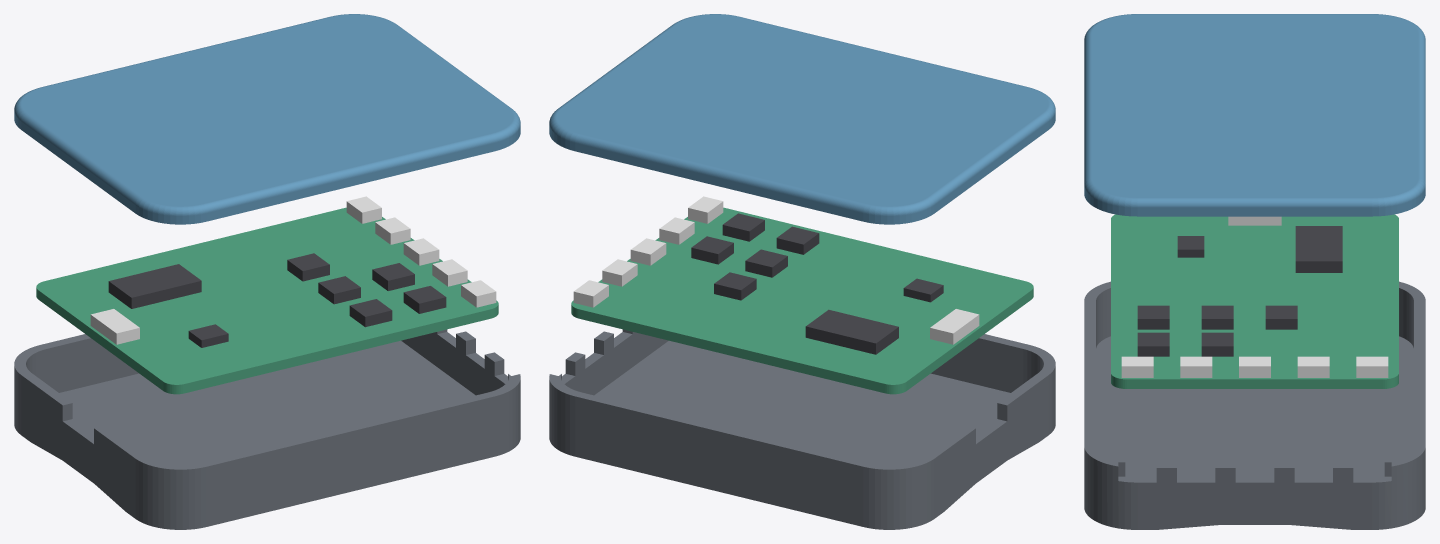
The model's file is hand_exploded.glb.
3 renders of one model, left to right at view 1: azimuth 30°, elevation 25°; view 2: azimuth 150°, elevation 25°; view 3: azimuth 270°, elevation 25°, orthographic. The views are drawn at different scales.
Visible parts, largest first — view 1: 015_lid, 000_base, 001_pcb, 002_chip, 014_conn, 003_chip, 006_chip, 005_chip, 007_chip, 004_chip, 011_conn, 010_conn (+4 smaller); view 2: 015_lid, 000_base, 001_pcb, 002_chip, 014_conn, 003_chip, 007_chip, 004_chip, 005_chip, 006_chip, 011_conn, 009_conn (+4 smaller); view 3: 015_lid, 000_base, 001_pcb, 002_chip, 003_chip, 004_chip, 005_chip, 006_chip, 007_chip, 009_conn, 010_conn, 012_conn (+4 smaller).
Part boxes in pixels (x1,y1,x2,y2): 015_lid: [14, 14, 520, 224]; 000_base: [14, 329, 520, 529]; 001_pcb: [36, 207, 498, 394]; 002_chip: [108, 264, 201, 308]; 014_conn: [90, 309, 139, 344]; 003_chip: [349, 299, 392, 327]; 006_chip: [403, 286, 446, 313]; 005_chip: [287, 253, 329, 281]; 007_chip: [372, 263, 414, 290]; 004_chip: [318, 276, 360, 304]; 011_conn: [403, 238, 439, 265]; 010_conn: [432, 259, 467, 286]; 015_lid: [549, 14, 1055, 224]; 000_base: [549, 329, 1055, 529]; 001_pcb: [571, 207, 1033, 394]; 002_chip: [805, 309, 898, 354]; 014_conn: [930, 309, 979, 344]; 003_chip: [776, 226, 819, 254]; 007_chip: [691, 236, 733, 264]; 004_chip: [745, 249, 787, 277]; 005_chip: [714, 272, 756, 300]; 006_chip: [722, 213, 764, 241]; 011_conn: [630, 238, 666, 265]; 009_conn: [688, 196, 723, 223]; 015_lid: [1084, 14, 1425, 216]; 000_base: [1084, 281, 1425, 529]; 001_pcb: [1111, 214, 1398, 388]; 002_chip: [1295, 226, 1342, 272]; 003_chip: [1137, 305, 1169, 329]; 004_chip: [1201, 305, 1233, 329]; 005_chip: [1265, 305, 1297, 329]; 006_chip: [1137, 332, 1169, 356]; 007_chip: [1201, 332, 1233, 356]; 009_conn: [1121, 356, 1153, 377]; 010_conn: [1180, 356, 1212, 377]; 012_conn: [1297, 356, 1329, 377].
Size of the model in its own units: 0.042 by 0.034 by 0.032.
